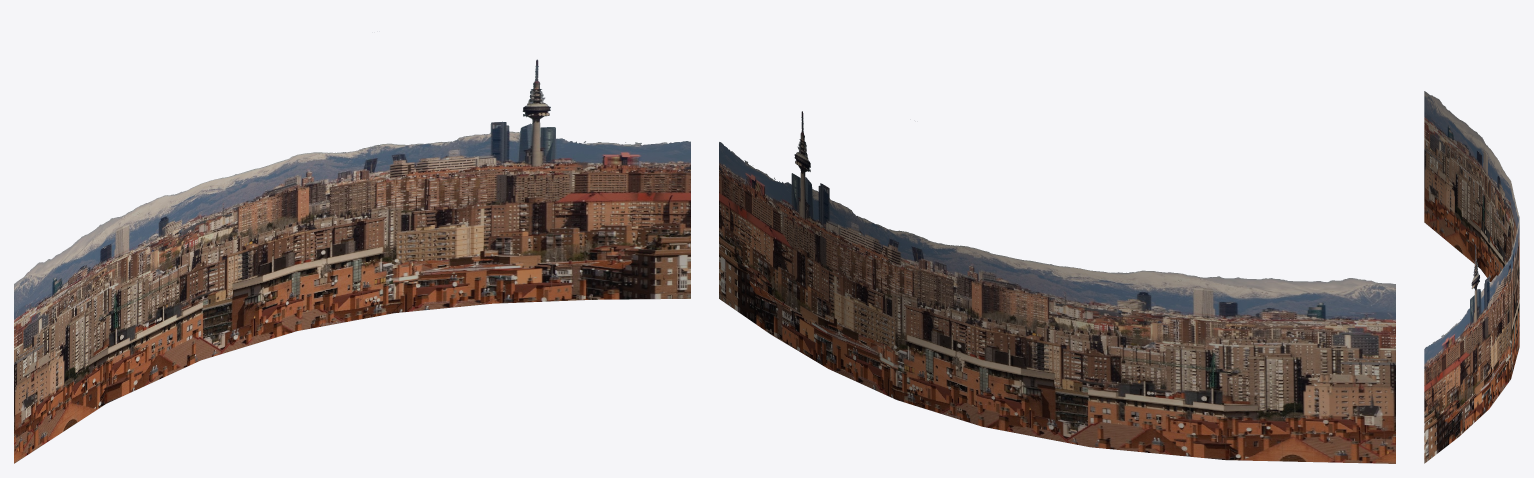
File: Landscape.FBX
The picture shows the model from 3 angles, left to right: view 1: azimuth 30°, elevation 25°; view 2: azimuth 150°, elevation 25°; view 3: azimuth 270°, elevation 25°; orthographic projection. The views are drawn at different scales.
Parts seen in each view (by area): view 1: landscape; view 2: landscape; view 3: landscape.
Part boxes in pixels (x1,y1,x2,y2): landscape: [14, 59, 690, 463]; landscape: [719, 111, 1395, 463]; landscape: [1424, 91, 1519, 463].
Bounding box in the file's own units: 1081 × 435 × 180.
1 material, 1 textured.
